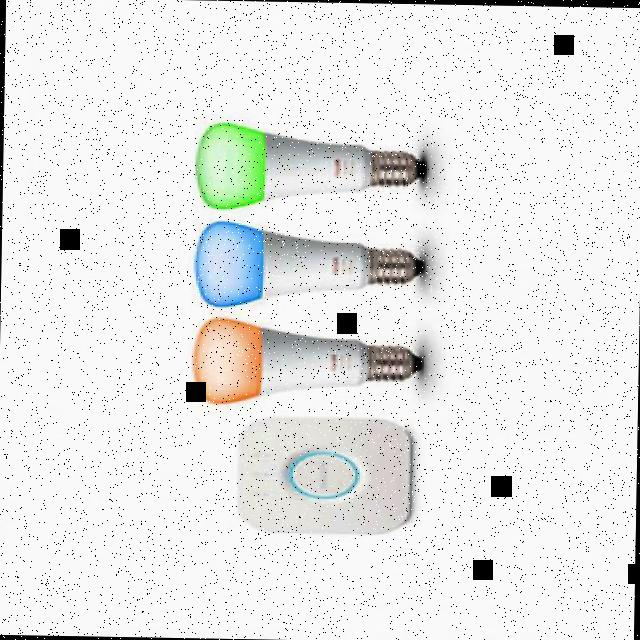light_bulb: (183, 112, 438, 216), (184, 212, 438, 316), (180, 312, 438, 414)
